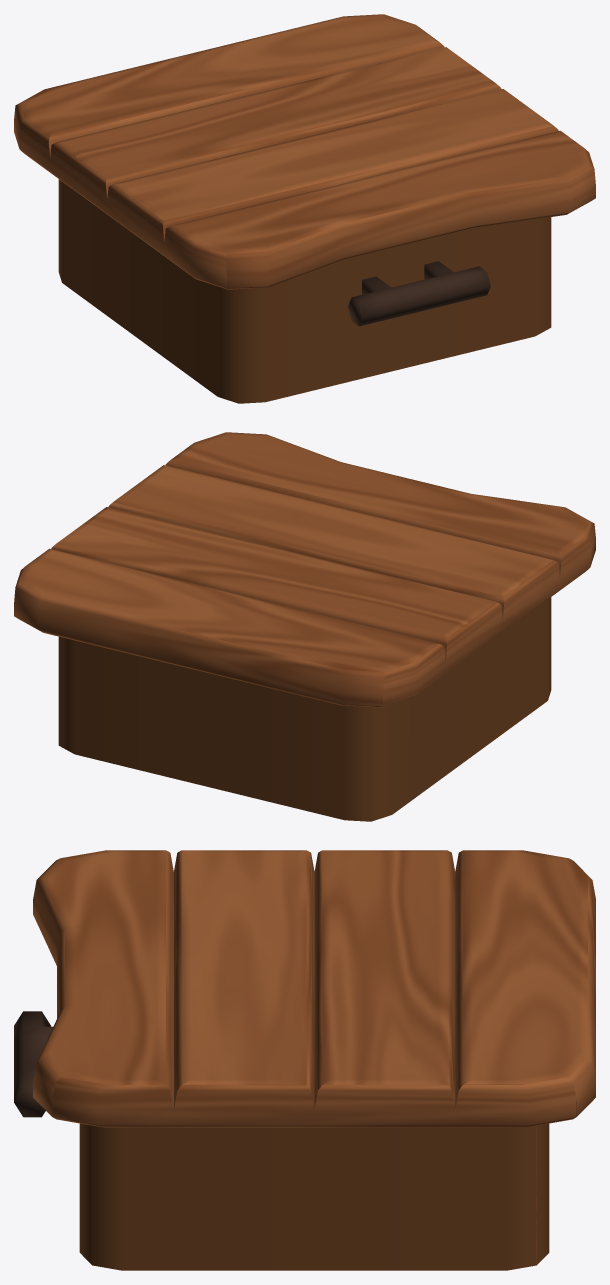
The model's file is Tezgah.fbx.
3 renders of one model, top to bottom at view 1: azimuth 30°, elevation 25°; view 2: azimuth 150°, elevation 25°; view 3: azimuth 270°, elevation 25°, orthographic. The views are drawn at different scales.
Visible parts, largest first — view 1: Tezgah; view 2: Tezgah; view 3: Tezgah.
Part boxes in pixels (x1,y1,x2,y2): Tezgah: [14, 14, 595, 403]; Tezgah: [14, 432, 595, 821]; Tezgah: [14, 850, 595, 1270].
Size of the model in its own units: 1.2 by 0.483 by 1.24.
Materials: 1 (1 with a texture image).
